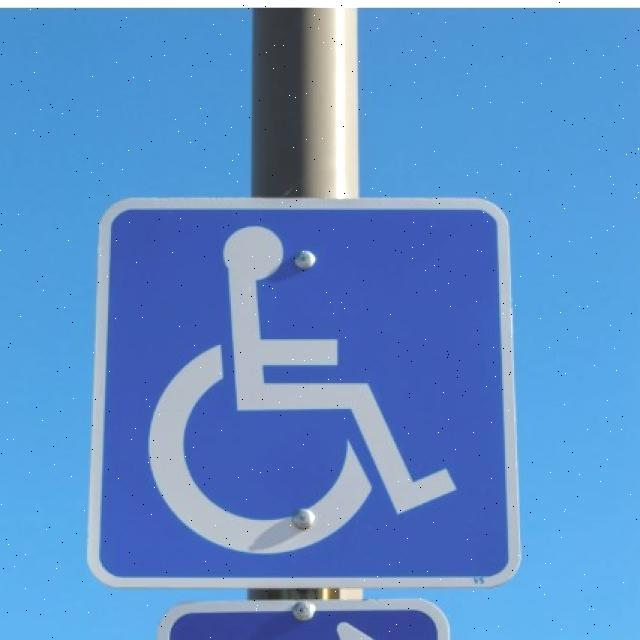symbol_of_access: (82, 192, 524, 593)
